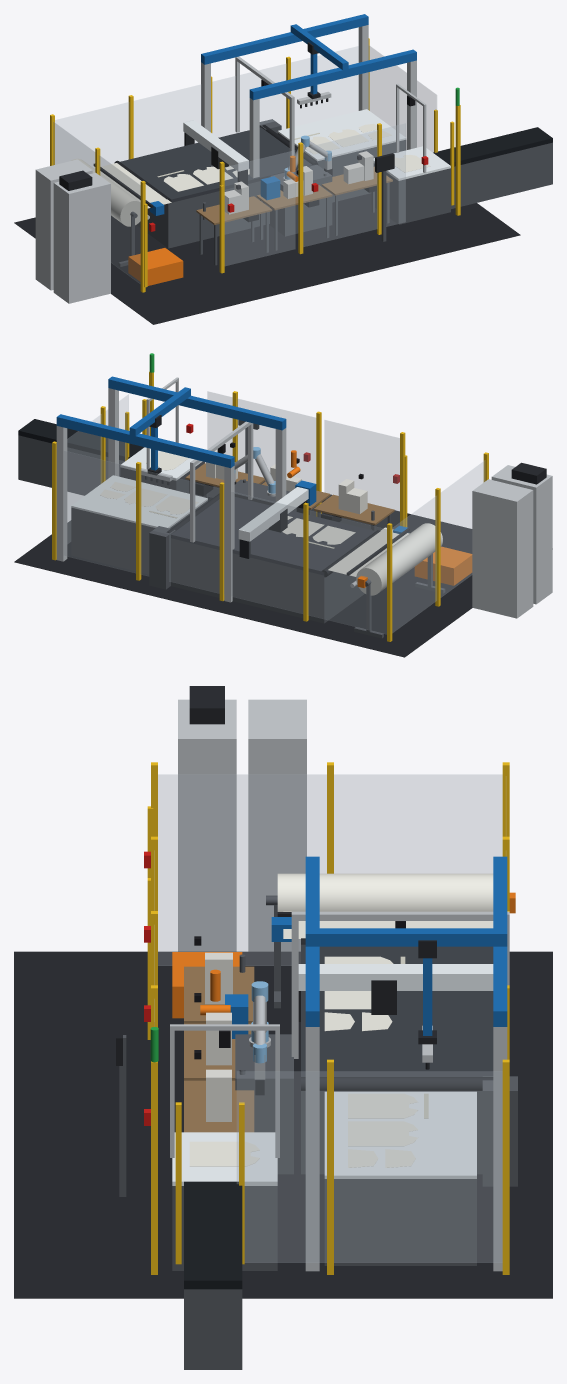
File: cell_concept.glb
The picture shows the model from 3 angles, top to bottom: view 1: azimuth 30°, elevation 25°; view 2: azimuth 150°, elevation 25°; view 3: azimuth 270°, elevation 25°; orthographic projection. The views are drawn at different scales.
Visible parts, largest first — view 1: A00 floor, A00 back guard panel, A00 front guard panel 2, A00 front guard panel 1, A09 control enclosure Rittal AX (P-ST09-007), A02 vacuum conveyor felt belt, A00 left guard panel, A07 belt stand, A04 Festo EGC-120 X axis 3000 (P-ST04-001) (×2), A02 cutter base (P-ST02-001), A04 gantry column (×4), A00 right guard panel (output opening below) (+30 smaller); view 2: A00 back guard panel, A00 floor, A00 left guard panel, A09 drive enclosure Rittal AX (P-ST09-007), A02 cutter base (P-ST02-001), A02 vacuum conveyor felt belt, A00 front guard panel 1, A04 gantry column (×4), A04 Festo EGC-120 X axis 3000 (P-ST04-001) (×2), A03 staging table frame, A00 front guard panel 2, A07 belt stand (+33 smaller); view 3: A00 floor, A00 right guard panel (output opening below), A00 left guard panel, A02 vacuum conveyor felt belt, A09 control enclosure Rittal AX (P-ST09-007), A03 staging table frame, A09 drive enclosure Rittal AX (P-ST09-007), A03 staging table top (backlit), A01 fabric roll 1.8 m (P-ST01-001), A07 discharge belt mk GUF-P (P-ST07-003), A04 gantry column (×2), A07 belt stand (+29 smaller).
Part boxes in pixels (x1,y1,x2,y2): A00 floor: [14, 193, 520, 324]; A00 back guard panel: [55, 46, 358, 167]; A00 front guard panel 2: [303, 130, 377, 246]; A00 front guard panel 1: [225, 150, 295, 265]; A09 control enclosure Rittal AX (P-ST09-007): [53, 172, 110, 303]; A02 vacuum conveyor felt belt: [120, 127, 314, 202]; A00 left guard panel: [53, 122, 140, 283]; A07 belt stand: [451, 142, 552, 208]; A04 Festo EGC-120 X axis 3000 (P-ST04-001) (×2): [201, 14, 416, 100]; A02 cutter base (P-ST02-001): [137, 181, 269, 248]; A04 gantry column (×4): [201, 25, 416, 178]; A00 right guard panel (output opening below): [369, 45, 436, 152]; A00 back guard panel: [64, 451, 386, 634]; A00 floor: [14, 481, 472, 657]; A00 left guard panel: [392, 460, 485, 632]; A09 drive enclosure Rittal AX (P-ST09-007): [472, 479, 533, 618]; A02 cutter base (P-ST02-001): [171, 538, 364, 623]; A02 vacuum conveyor felt belt: [171, 497, 375, 575]; A00 front guard panel 1: [324, 420, 399, 530]; A04 gantry column (×4): [56, 388, 286, 602]; A04 Festo EGC-120 X axis 3000 (P-ST04-001) (×2): [56, 376, 286, 468]; A03 staging table frame: [71, 500, 207, 574]; A00 front guard panel 2: [237, 398, 315, 515]; A07 belt stand: [18, 435, 124, 495]; A00 floor: [14, 951, 552, 1298]; A00 right guard panel (output opening below): [237, 1071, 502, 1262]; A00 left guard panel: [158, 774, 502, 965]; A02 vacuum conveyor felt belt: [301, 944, 493, 1076]; A09 control enclosure Rittal AX (P-ST09-007): [178, 699, 236, 951]; A03 staging table frame: [324, 1179, 476, 1265]; A09 drive enclosure Rittal AX (P-ST09-007): [248, 699, 306, 951]; A03 staging table top (backlit): [324, 1091, 476, 1178]; A01 fabric roll 1.8 m (P-ST01-001): [277, 873, 493, 911]; A07 discharge belt mk GUF-P (P-ST07-003): [184, 1181, 242, 1289]; A04 gantry column (×2): [305, 1027, 507, 1271]; A07 belt stand: [184, 1289, 242, 1369].
Size of the model in its own units: 9.25 by 2.57 by 4.6.
